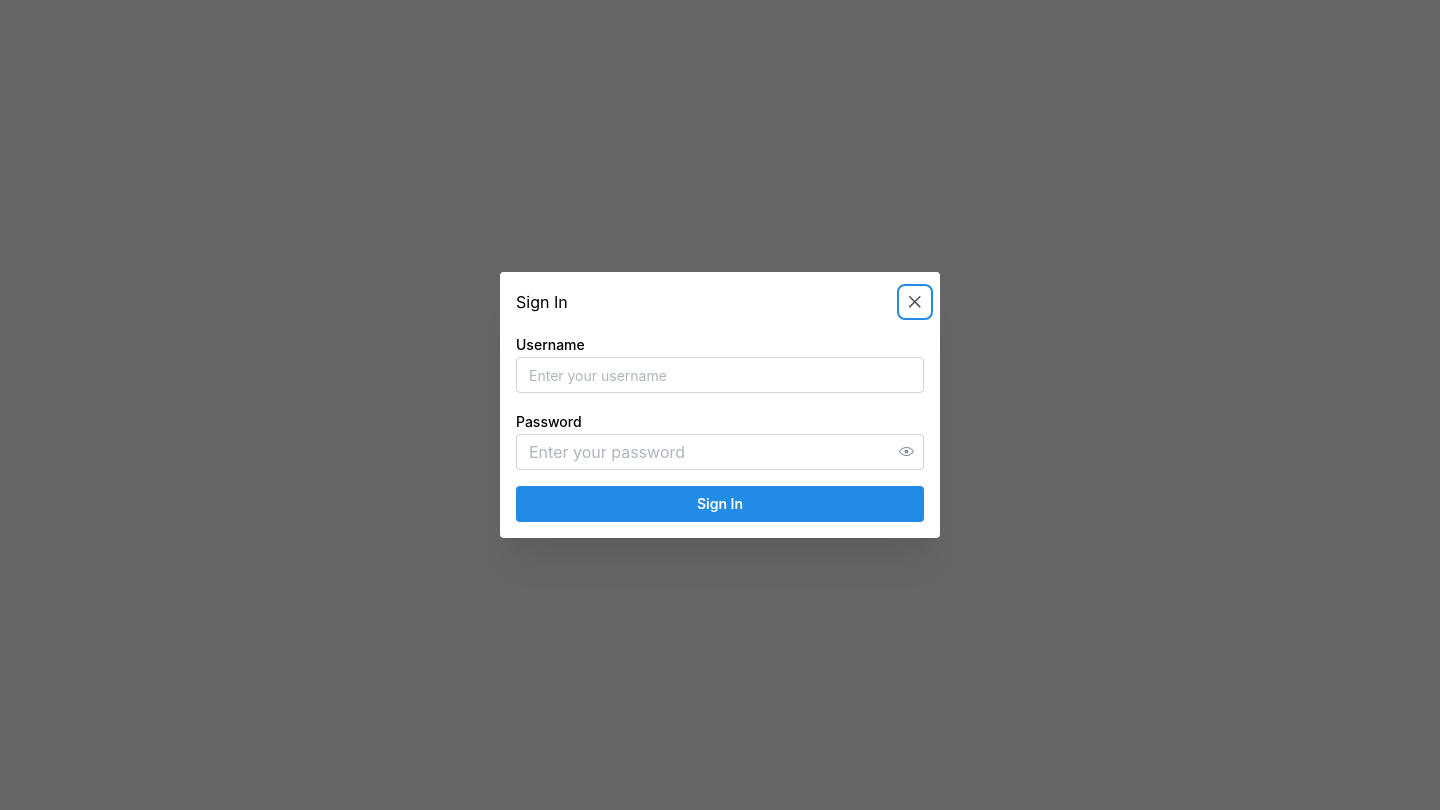
<SignInModal /> › form validation › shows error when username is empty
Type "password123" into the password field labelled "Password".
click(720, 452); type("password123")  # box [517,435,923,469]
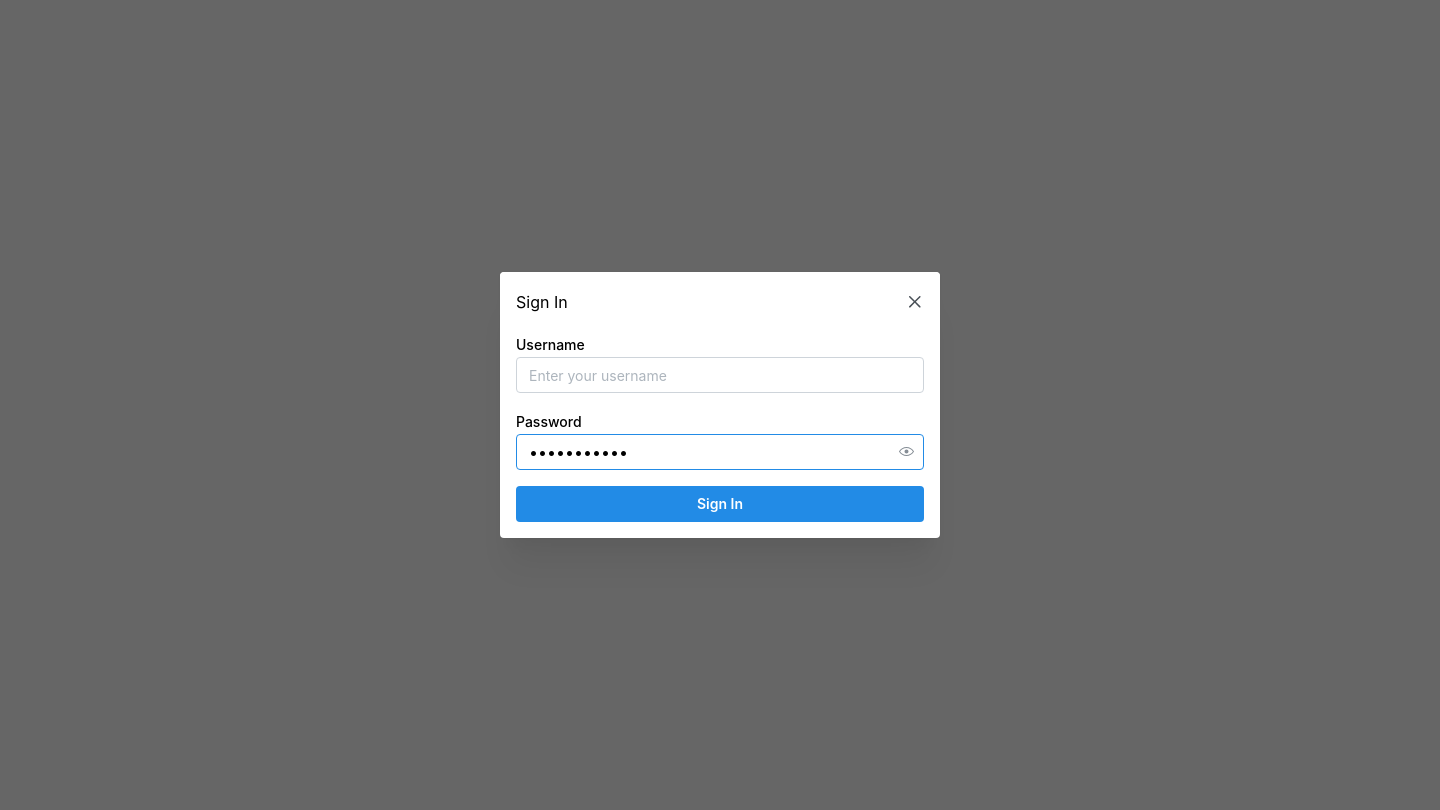
Click the button "Sign In".
click(720, 504)  # box [516,486,924,522]
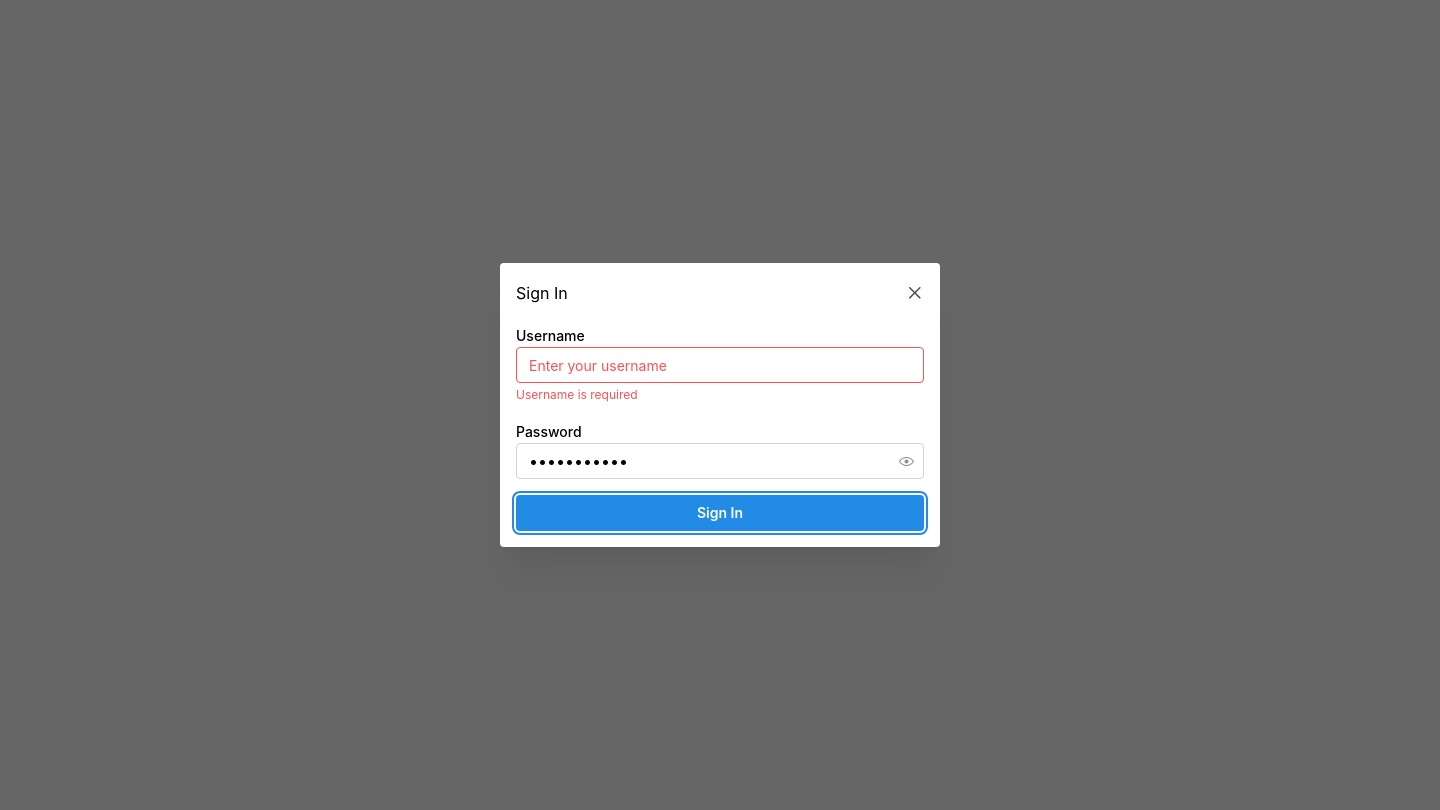
Check: the text "Username is required" is shown, box [516,387,638,402]
